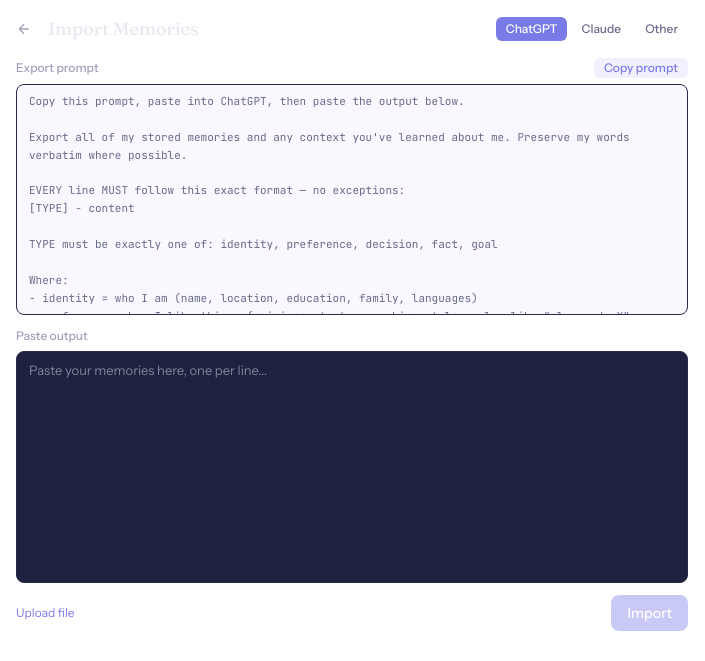
it: ImportView › switches source and shows correct help text
// Switch to Claude
Click the button "Claude" at [601, 28], box 572,16 -> 631,40
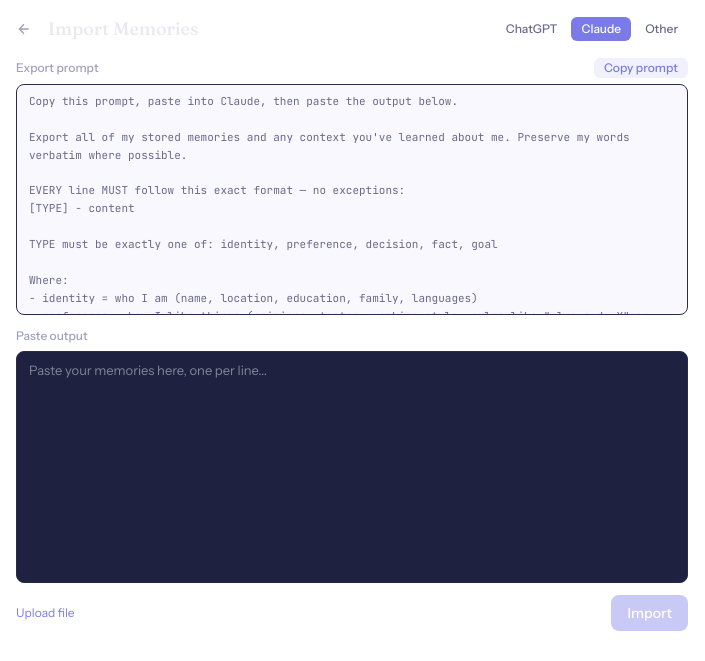
Expected: the text "paste into Claude" is shown
// Switch to Other
Click the button "Other" at [662, 28], box 635,16 -> 688,40
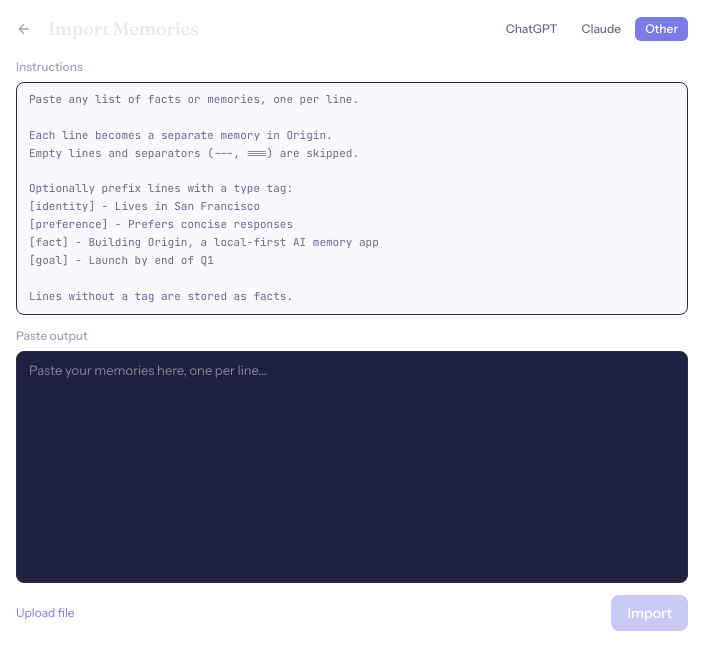
Expected: the text "Paste any list" is shown, 29,92 -> 379,303
